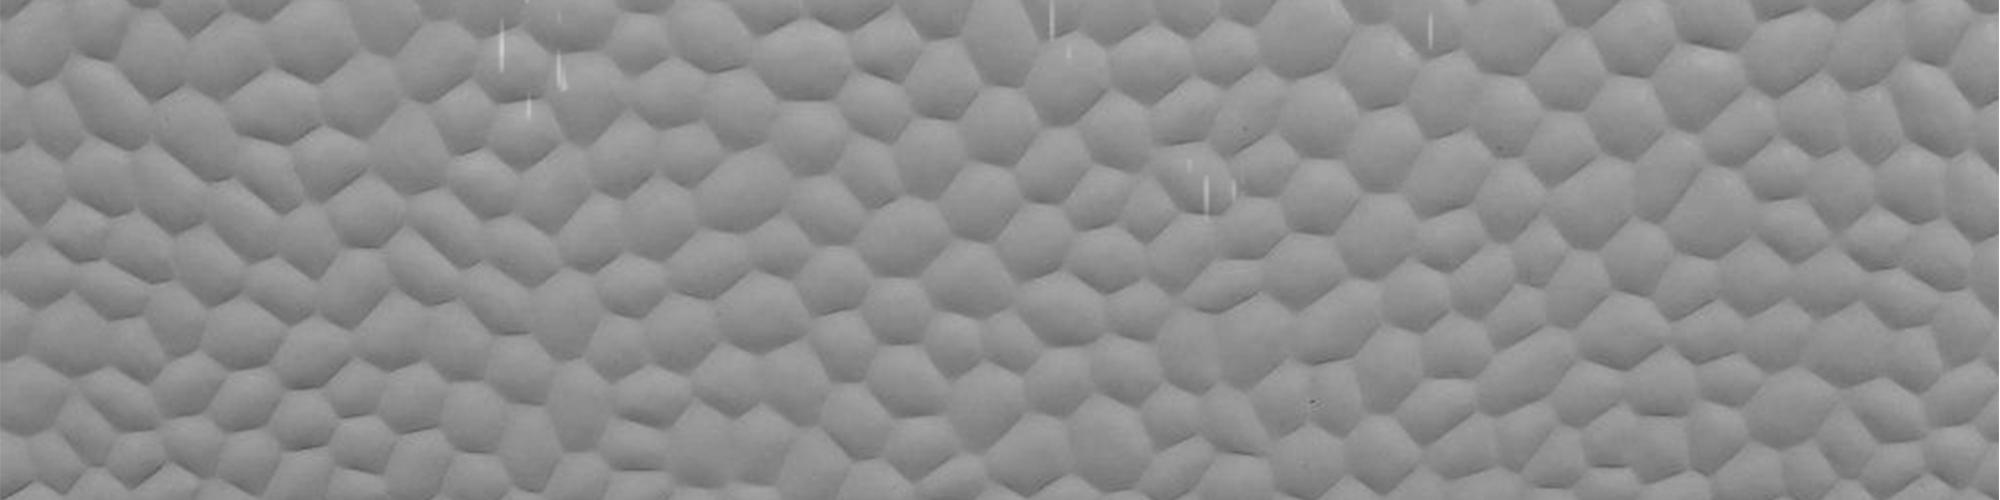Streaks: (1181, 143, 1246, 224), (1037, 1, 1077, 68), (550, 40, 578, 99), (491, 13, 514, 80), (1422, 5, 1439, 55), (520, 85, 538, 130), (551, 14, 569, 31)
